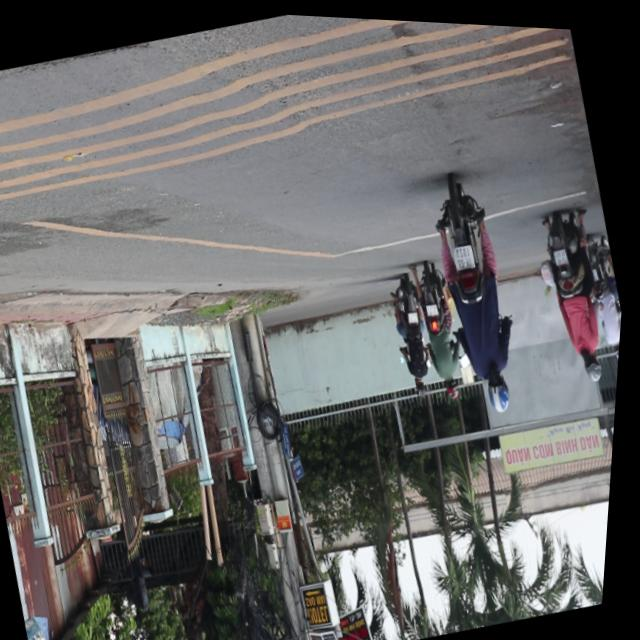helmet: (484, 366, 517, 409)
licenseplate: (413, 165, 542, 416)
nohelmet: (452, 238, 478, 266)
